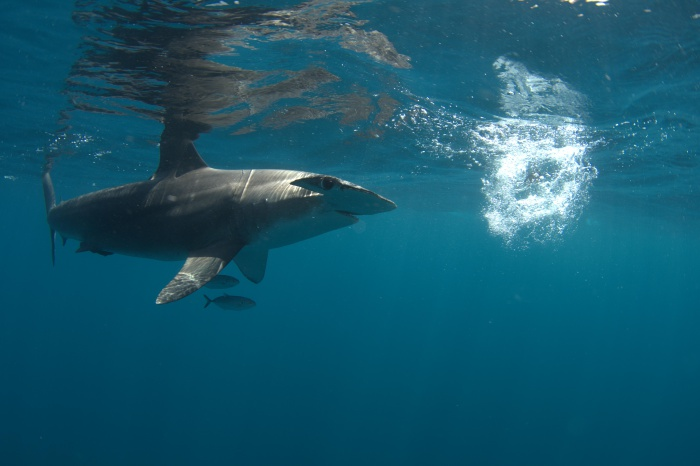Hammer: (27, 109, 395, 340)
